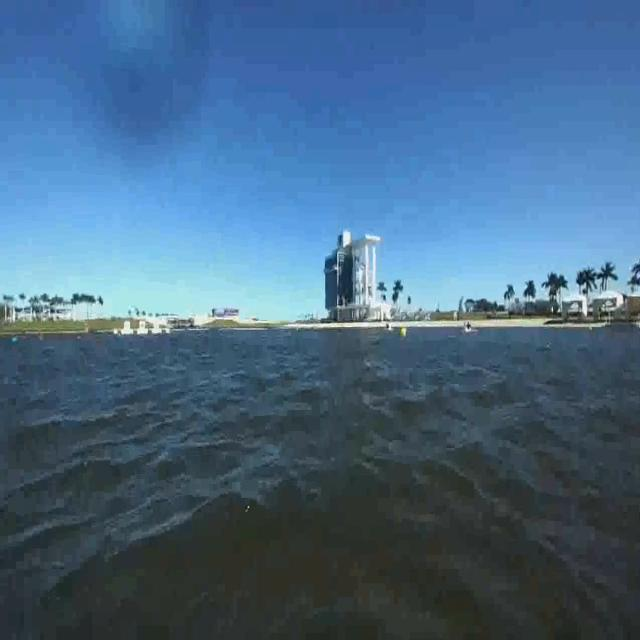yellow-buoy: (399, 324, 407, 338)
